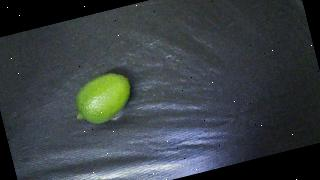LOCAL: (68, 69, 137, 129)
